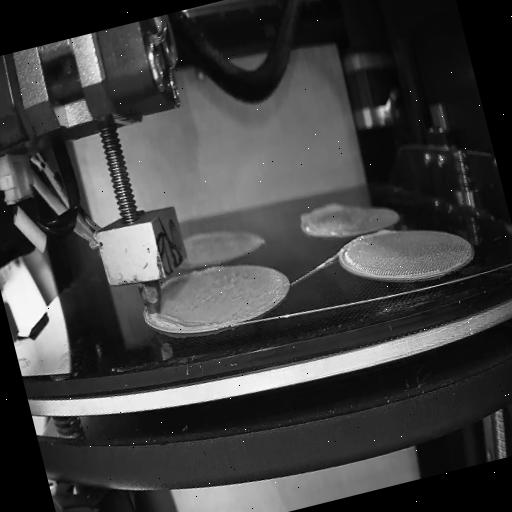over_extrusion: (291, 200, 347, 228), (158, 313, 188, 334), (372, 224, 394, 239)
